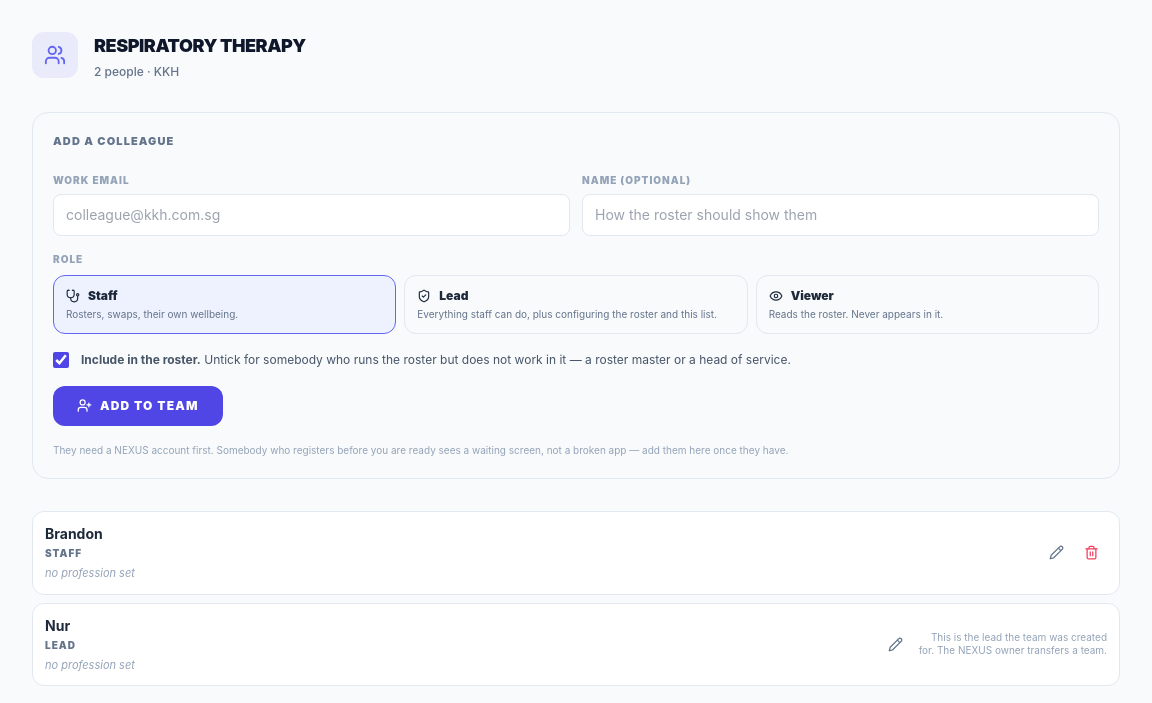
Test: adding a colleague › reports a thrown error too, rather than hanging on the spinner
Type "a@kkh.com.sg" into the field with placeholder "colleague@kkh.com.sg" at (312, 214), box top-left (53, 194), bottom-right (570, 236)
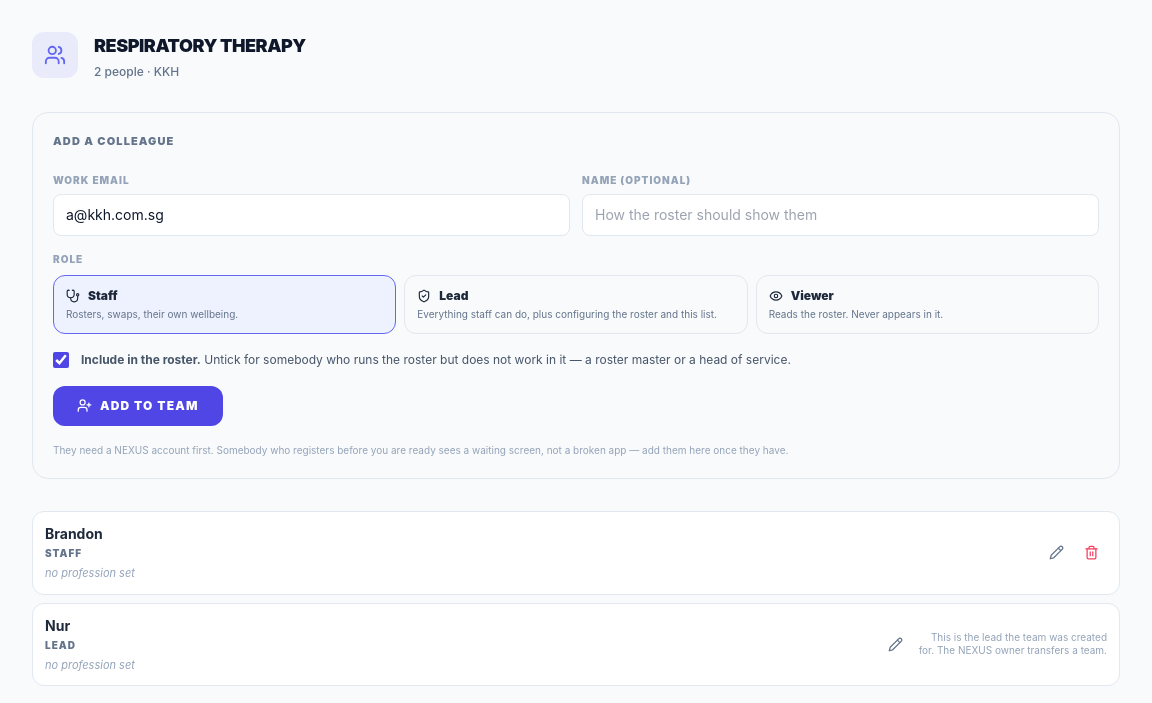
Click the button "Add to team" at (138, 406), box top-left (53, 386), bottom-right (223, 426)
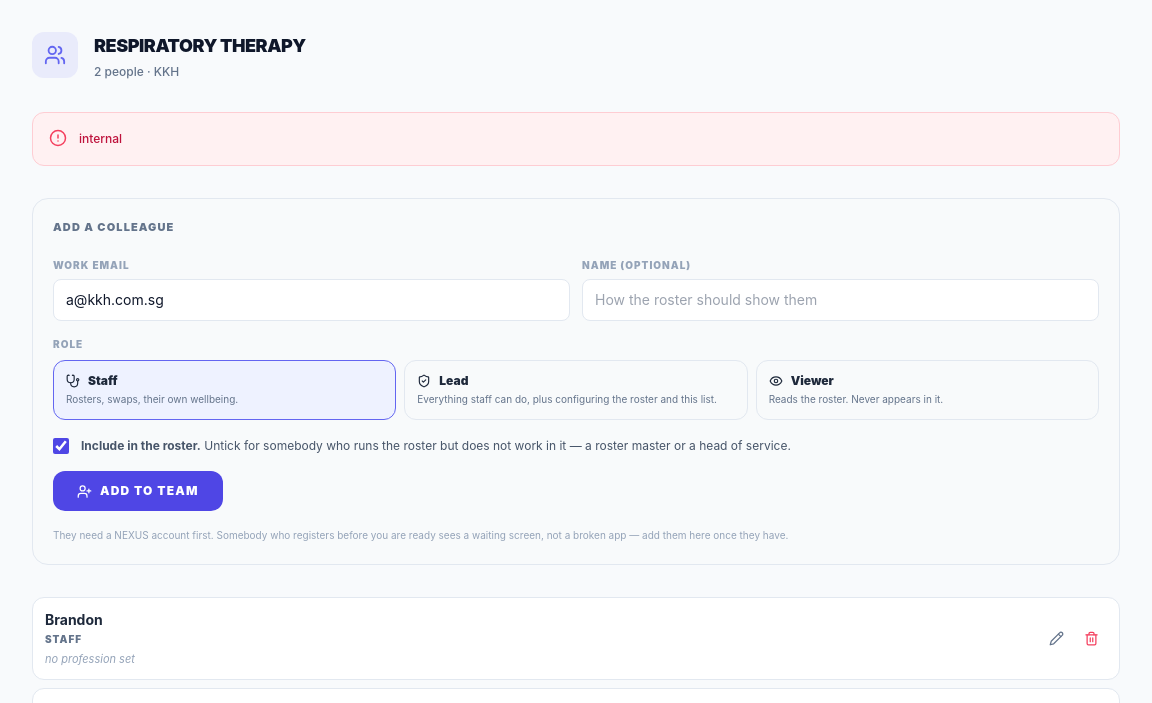
Check: the button "Add to team" is enabled, box top-left (53, 471), bottom-right (223, 511)
Check: the message reads "internal", box top-left (79, 131), bottom-right (122, 146)
